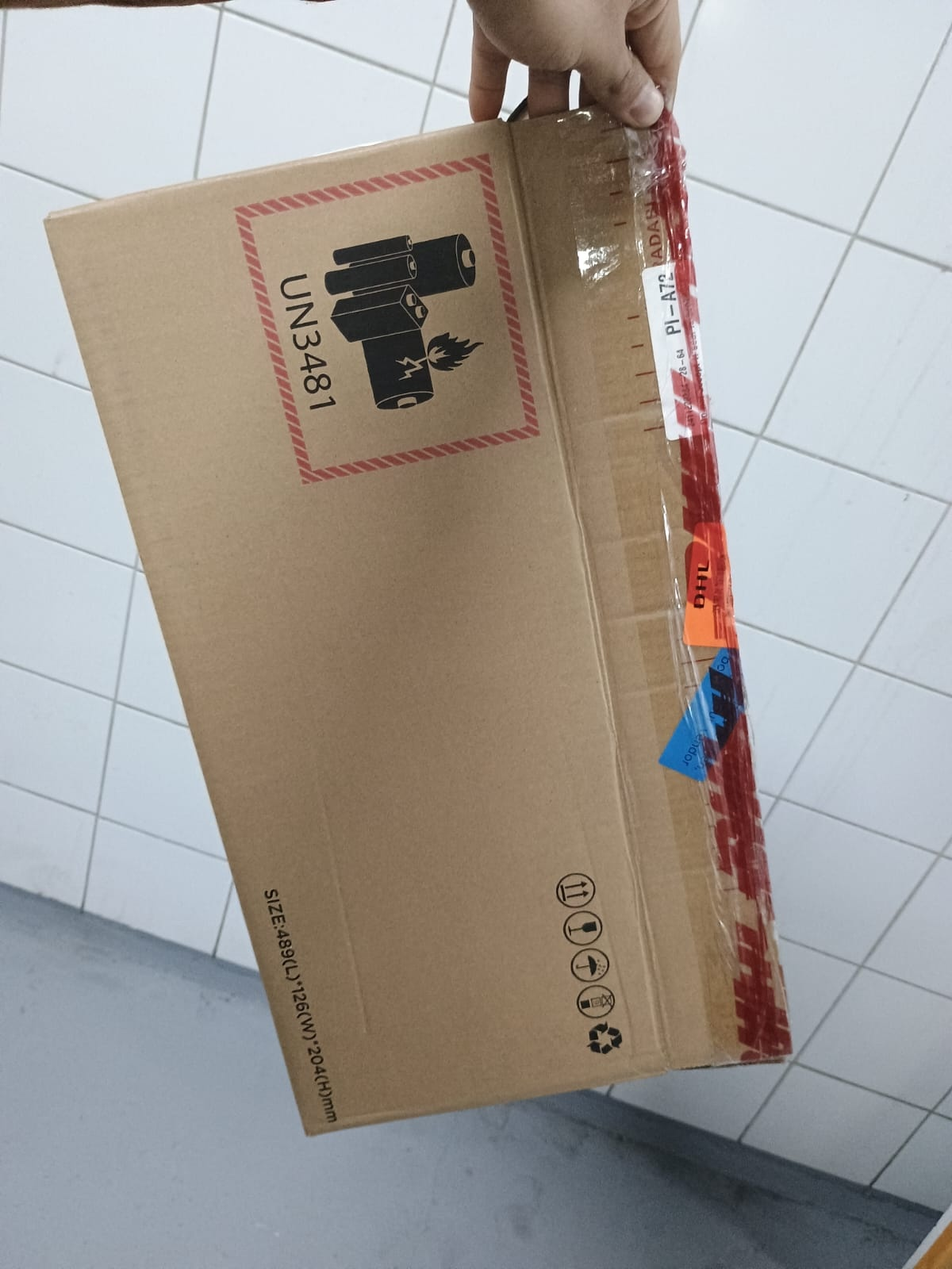Carton: (48, 106, 798, 1138)
